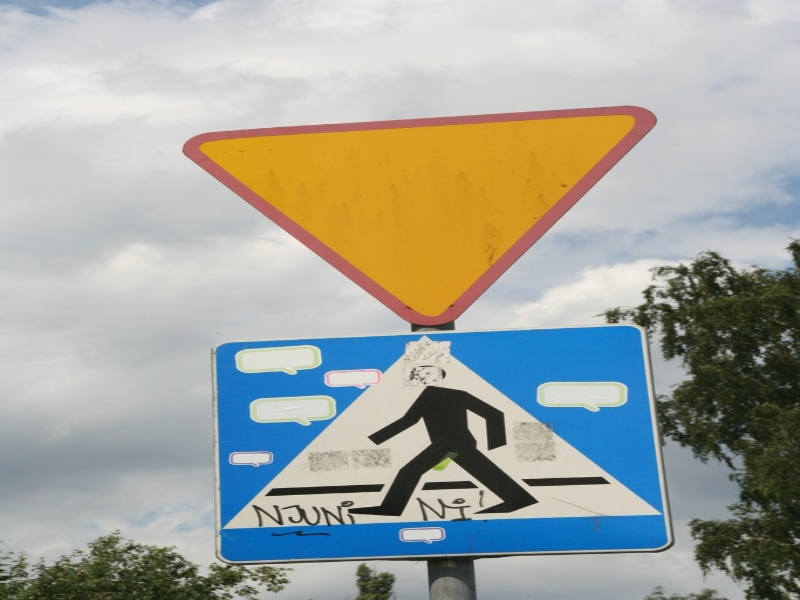pedestrian_crossing_ahead: (363, 355, 540, 521)
